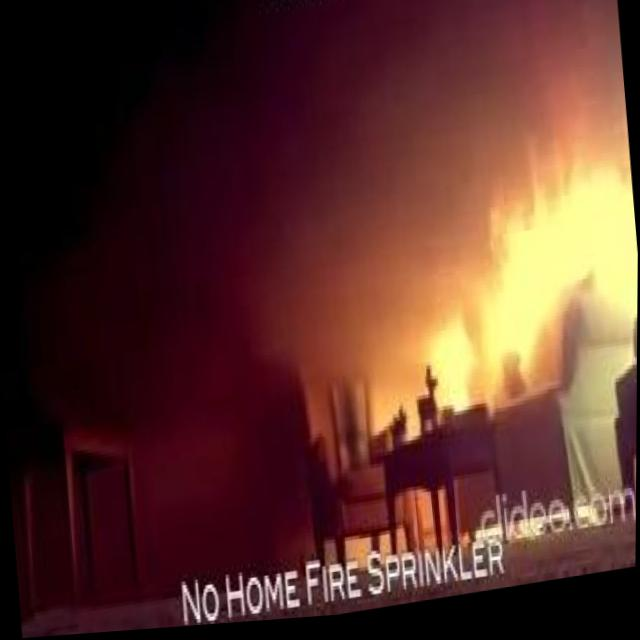fire: (461, 155, 639, 337), (473, 253, 556, 386), (425, 319, 478, 419)
